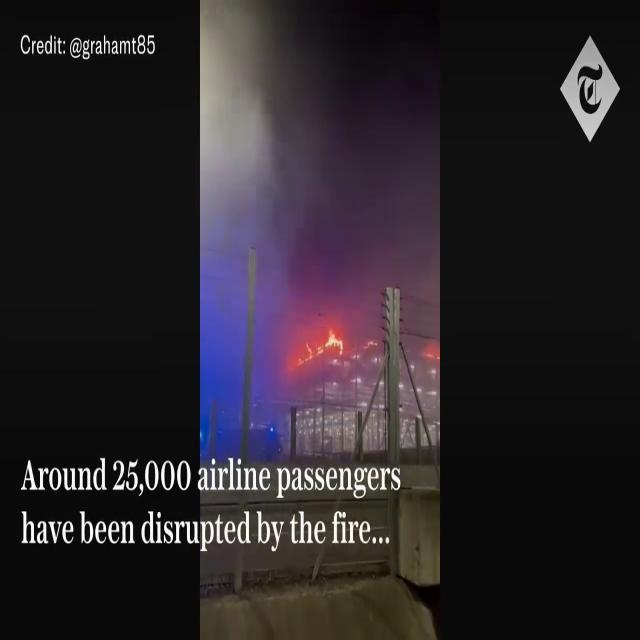Fire: (294, 323, 346, 366)
Smoke: (203, 1, 439, 325)
